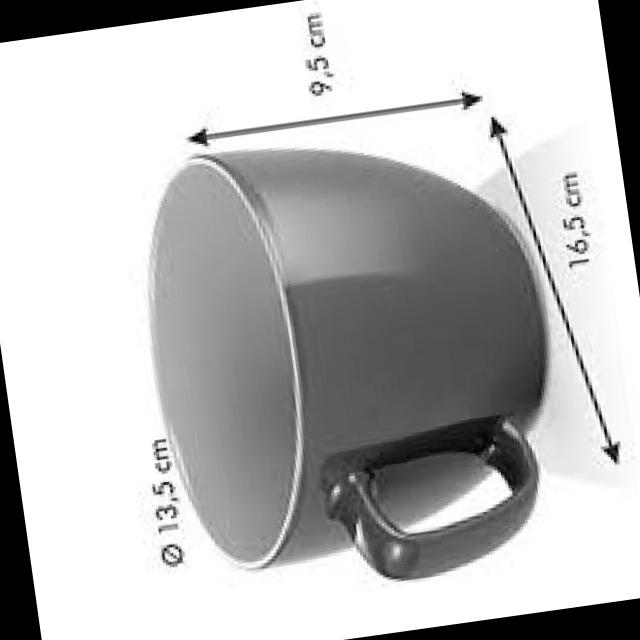Coffee Mug: (128, 110, 576, 609)
